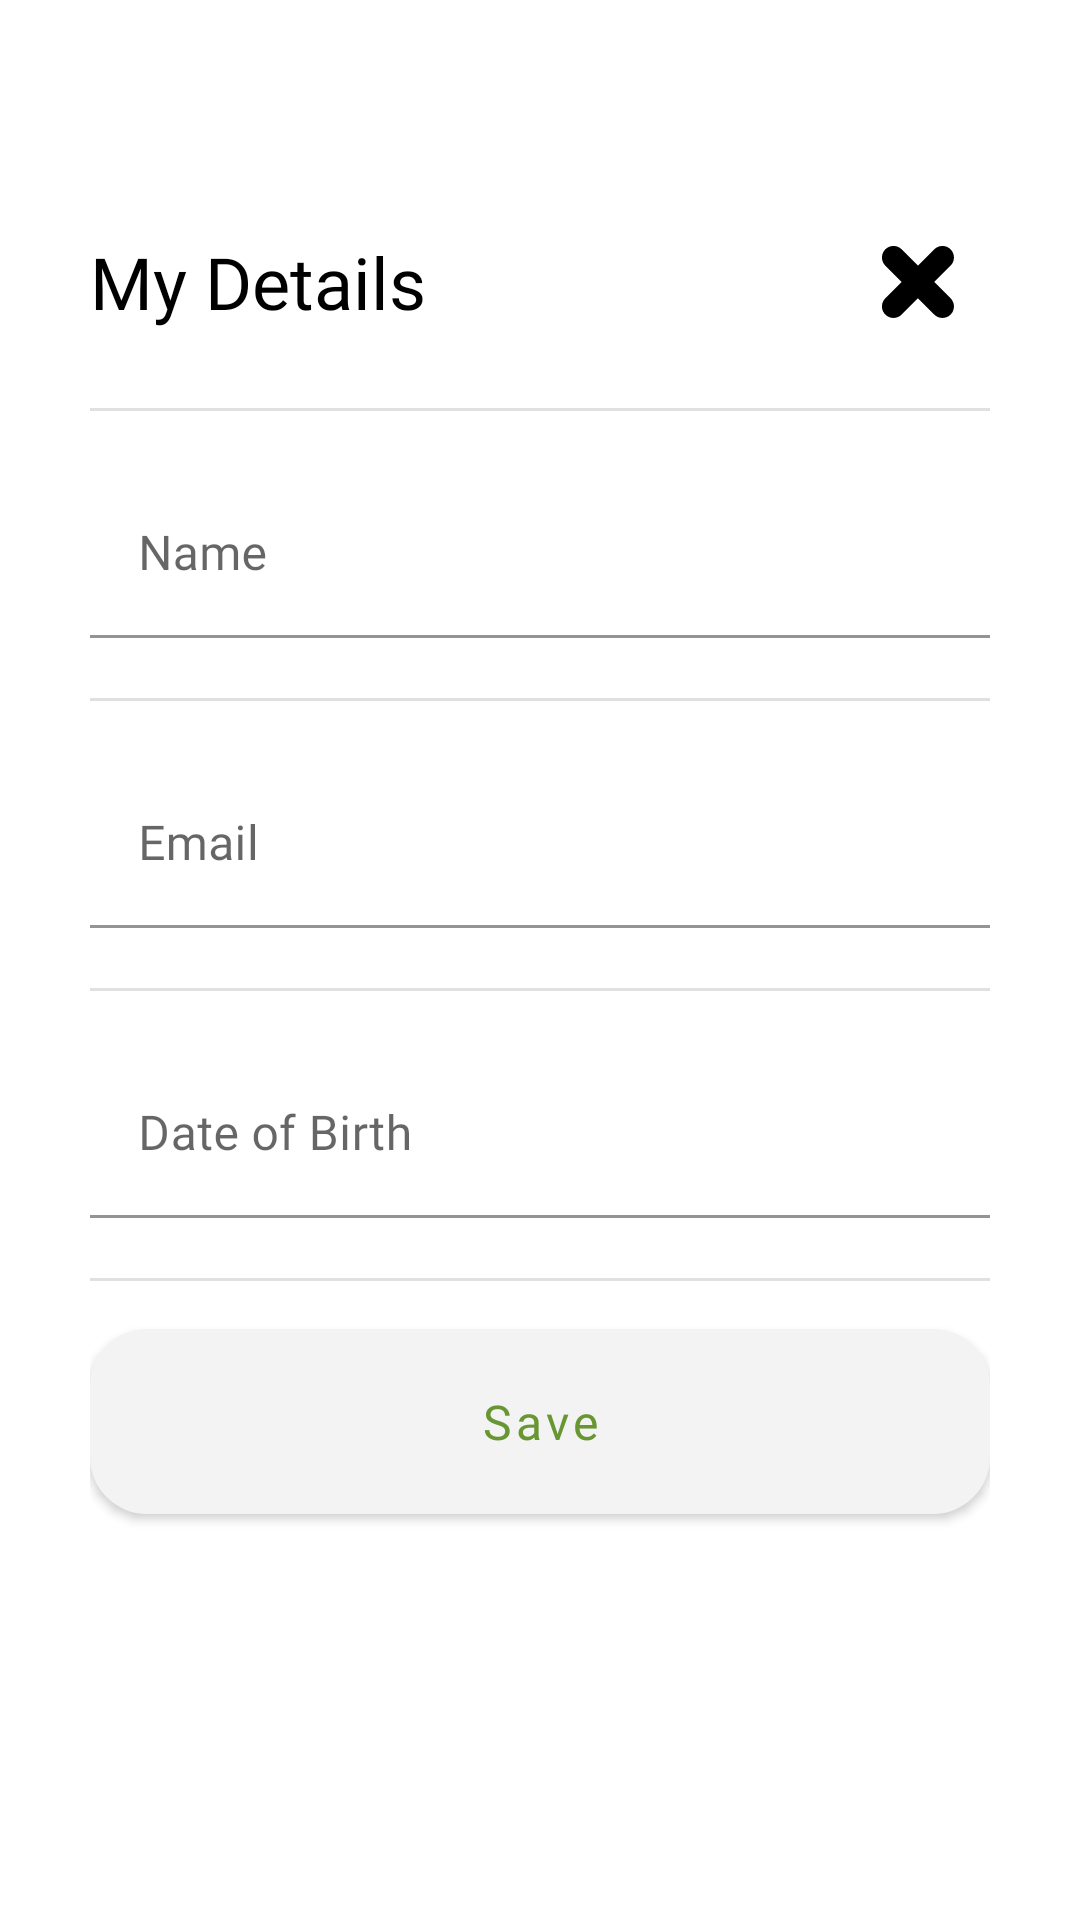

Icon click points for this 1080px×1920px phone screenshot, format (x=x, y=y):
cancel: (x=918, y=282)
